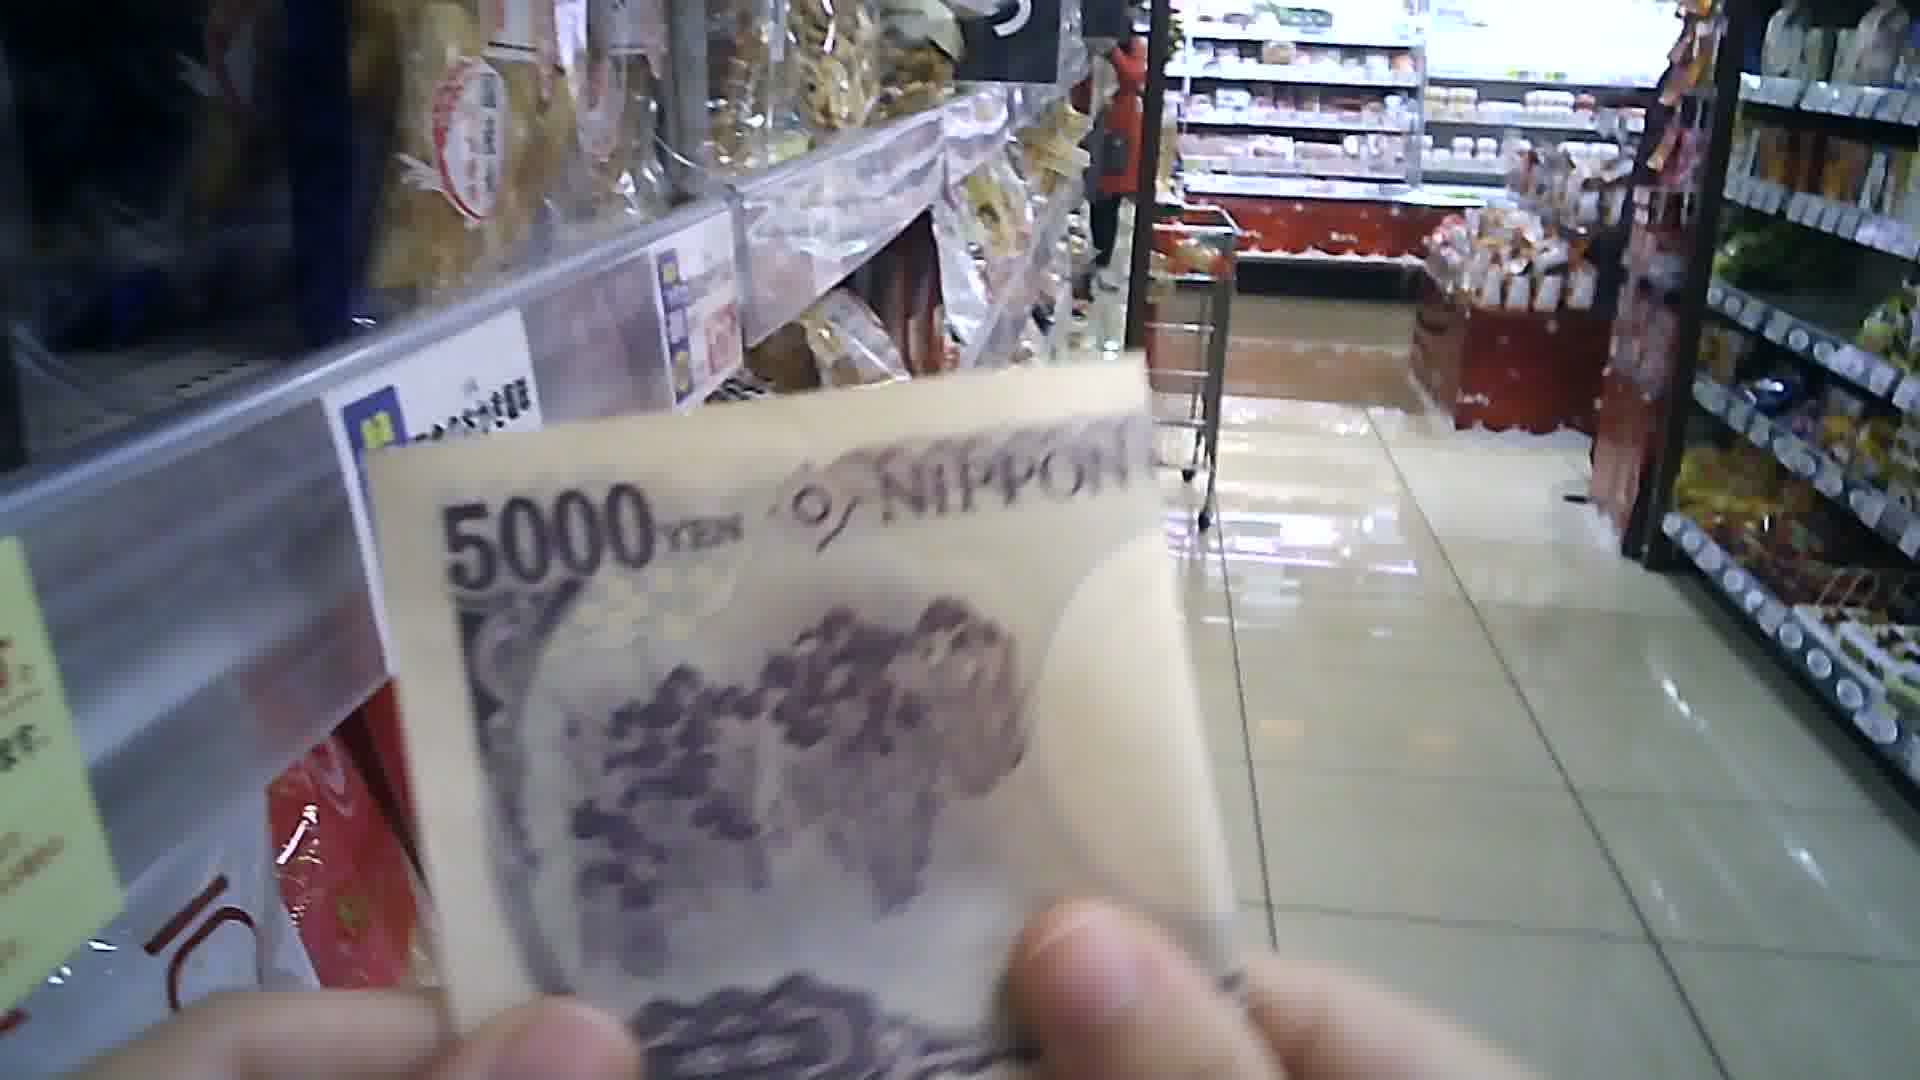5,000 Yen: (360, 357, 1271, 1079)
